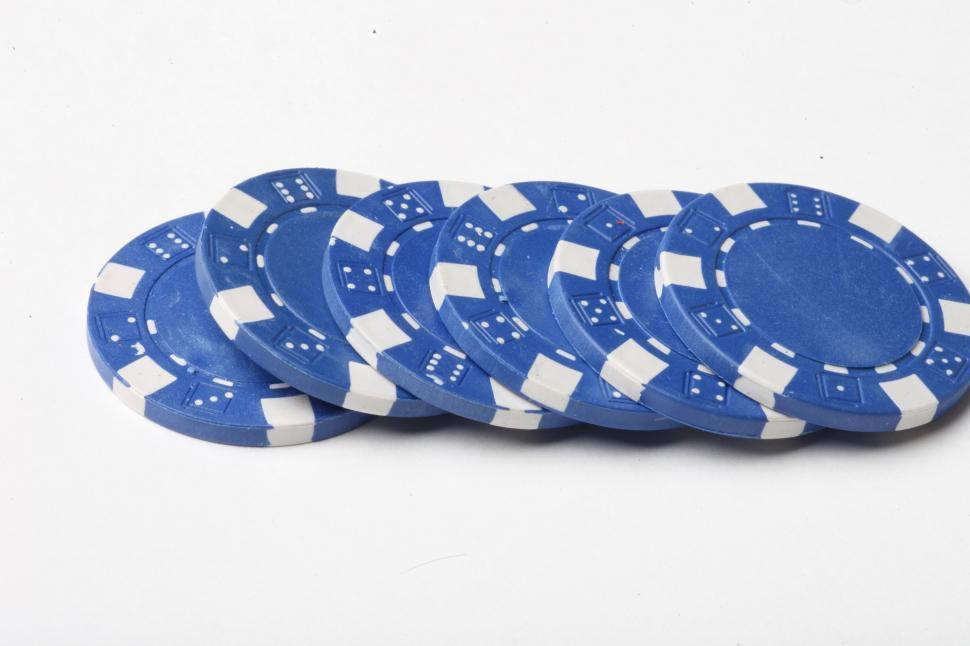chip-blue: (657, 184, 970, 432), (87, 212, 368, 446), (549, 191, 815, 438), (322, 180, 572, 427), (197, 169, 440, 416), (430, 182, 669, 429)
